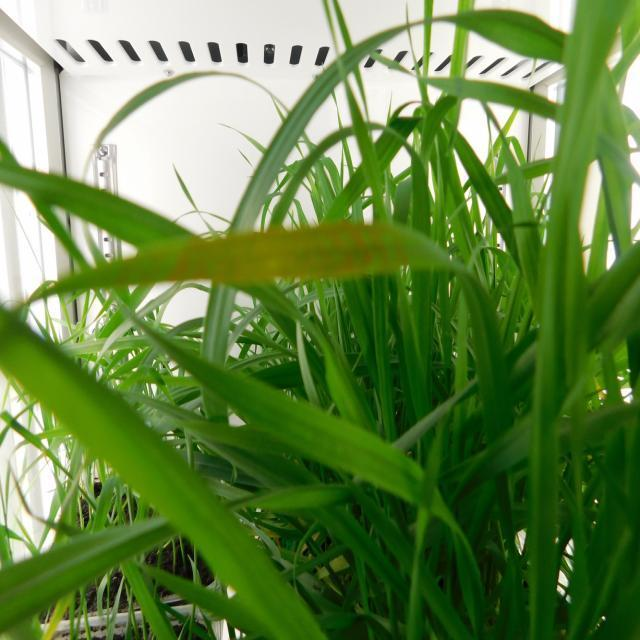Yellow Rust: (49, 220, 451, 291)
